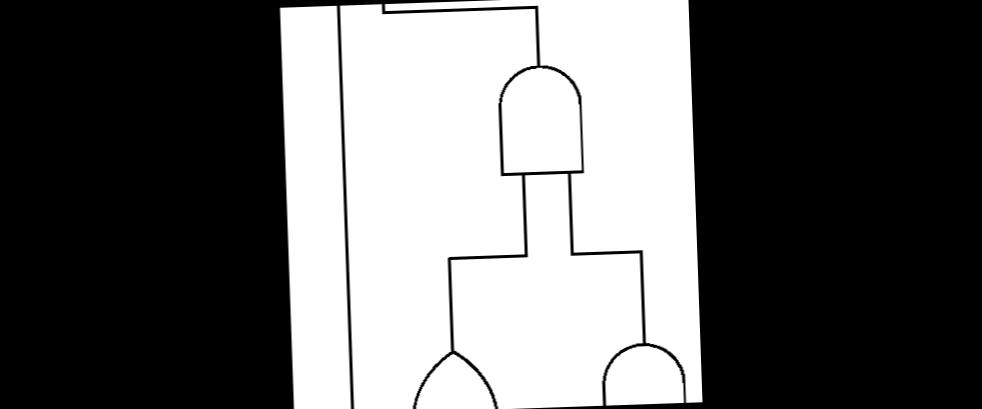and: (488, 50, 592, 189), (591, 320, 693, 406)
or: (402, 334, 508, 409)
